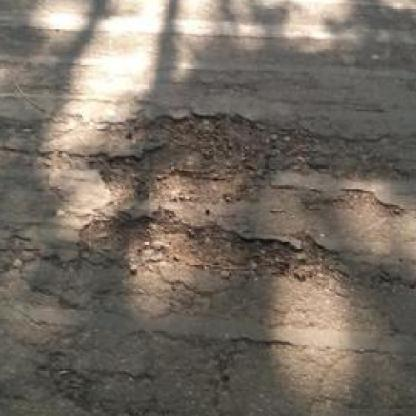pothole: (88, 110, 321, 206), (76, 209, 340, 292)
